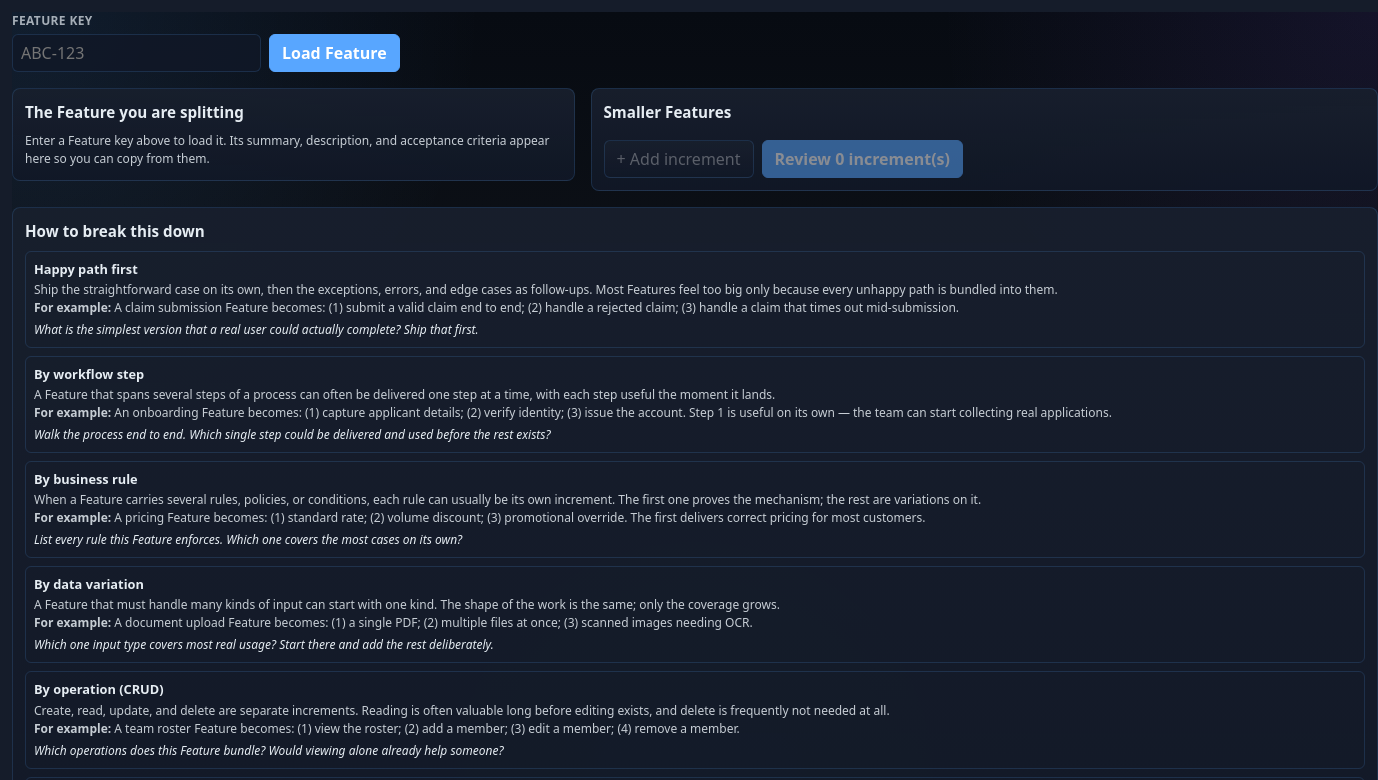
Test: FeatureSplitterTab — loading the original › shows the original's content to copy from
Type "ABC-1" into the field labelled "Feature key".
click(136, 53); type("ABC-1")  # box [12,34,261,72]
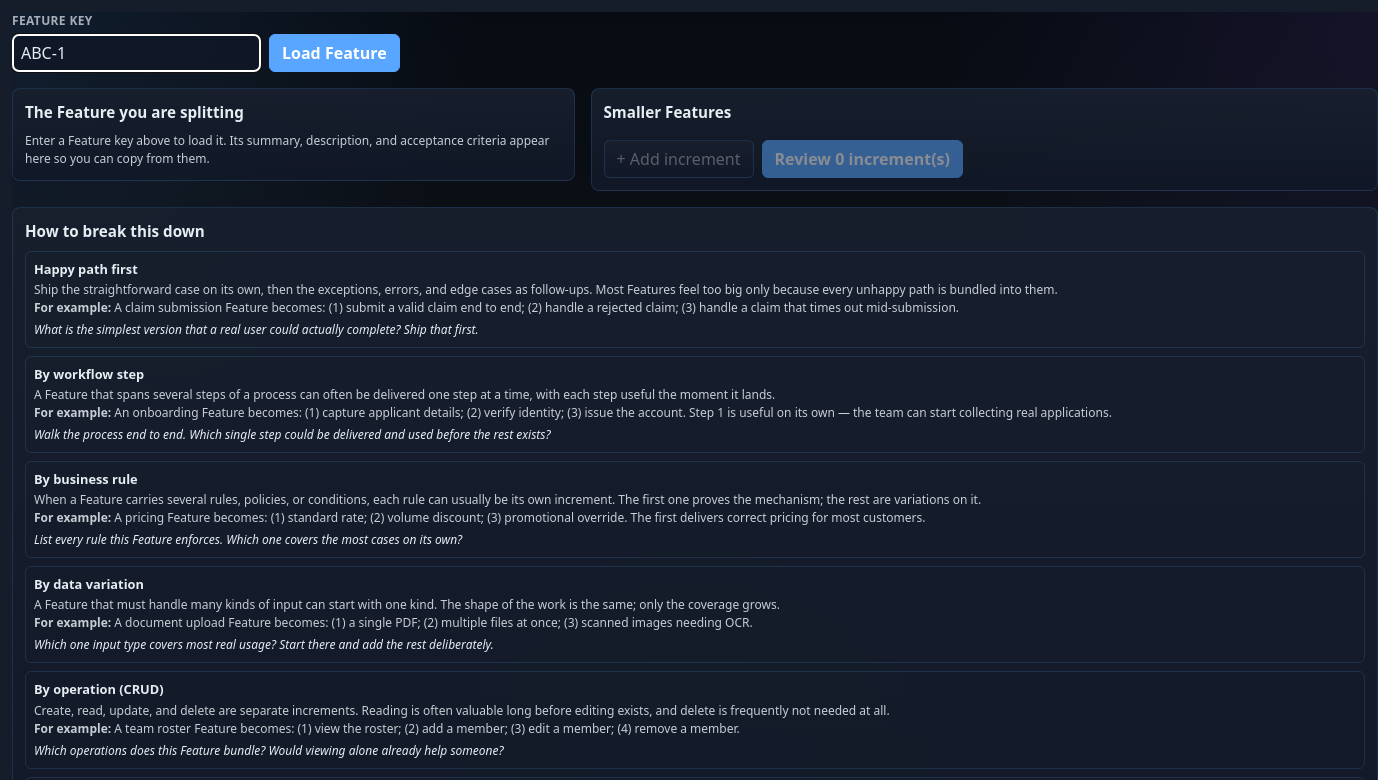
Click the button "Load Feature".
click(334, 53)  # box [269,34,400,72]
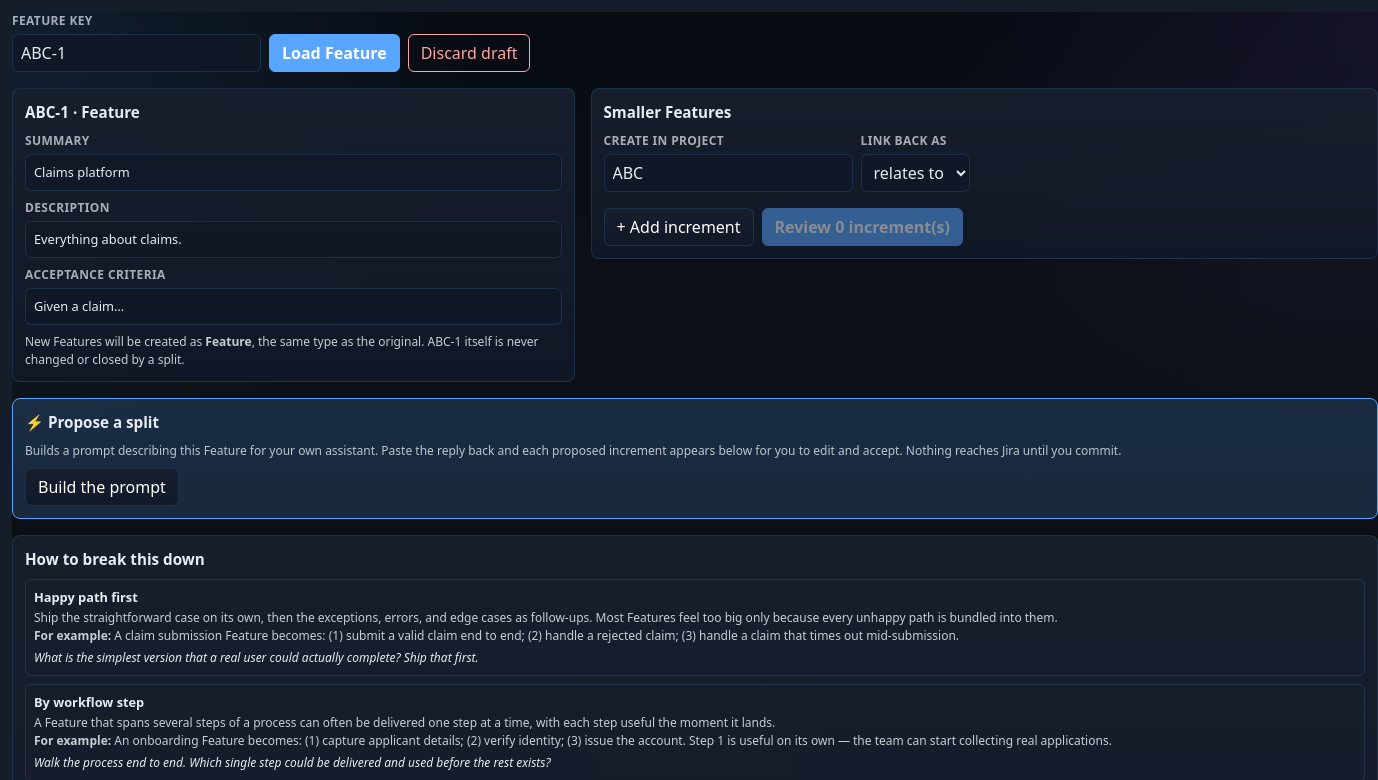
Now the heading "ABC-1 · Feature" is shown, box [25,102,140,122]
Now the text "Claims platform" is shown, box [25,154,562,191]
Now the text "Everything about claims." is shown, box [25,221,562,258]
